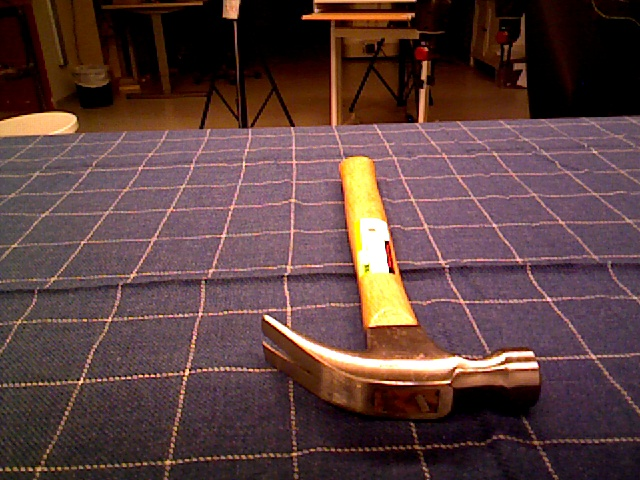hammer1: (260, 155, 542, 420)
